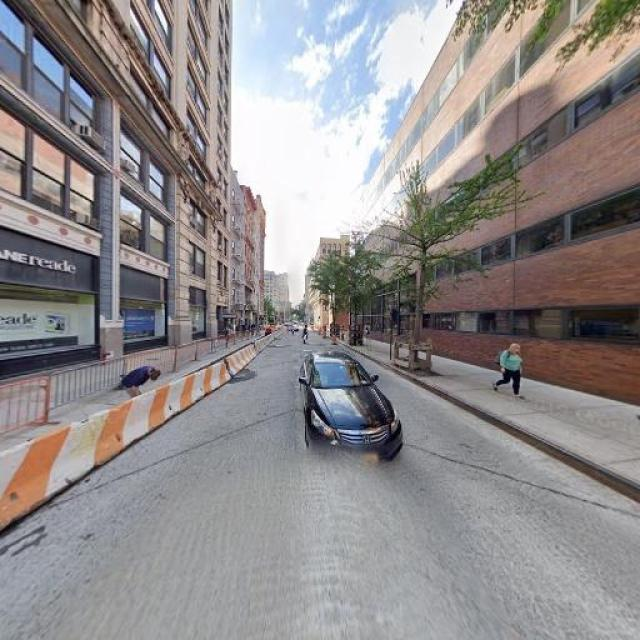Building: (350, 1, 640, 402), (1, 1, 229, 388)
